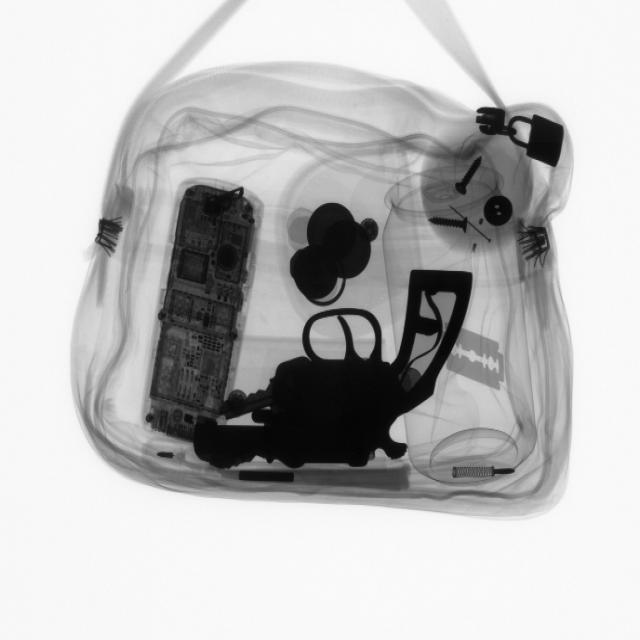BLADE: (446, 326, 511, 394)
GUN: (193, 260, 469, 470)
SCREW: (449, 145, 492, 203), (423, 207, 480, 243)
